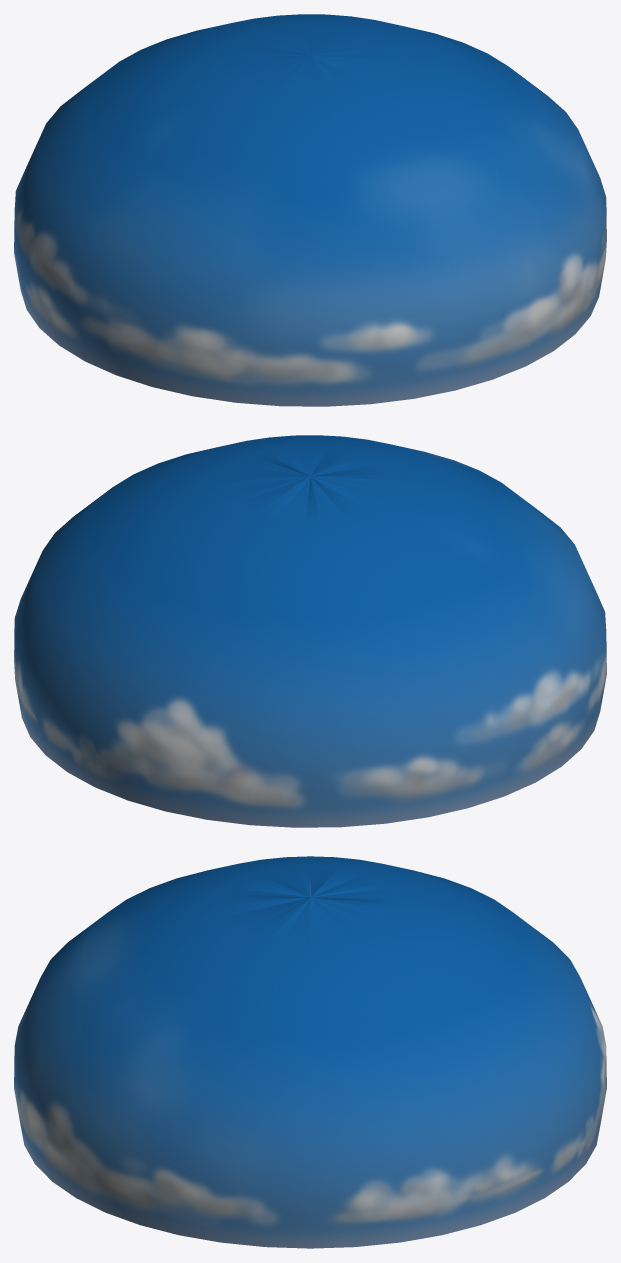
File: SkyAndLand.fbx
3 views of the same model, one above another, from view 1: azimuth 30°, elevation 25°; view 2: azimuth 150°, elevation 25°; view 3: azimuth 270°, elevation 25° (orthographic).
Parts seen in each view (by area): view 1: sky; view 2: sky; view 3: sky.
Part boxes in pixels (x1=…): sky: x1=14, y1=14, x2=606, y2=406; sky: x1=14, y1=435, x2=606, y2=827; sky: x1=14, y1=856, x2=606, y2=1248.
Bounding box in the file's own units: 18703 × 7958 × 18703.
